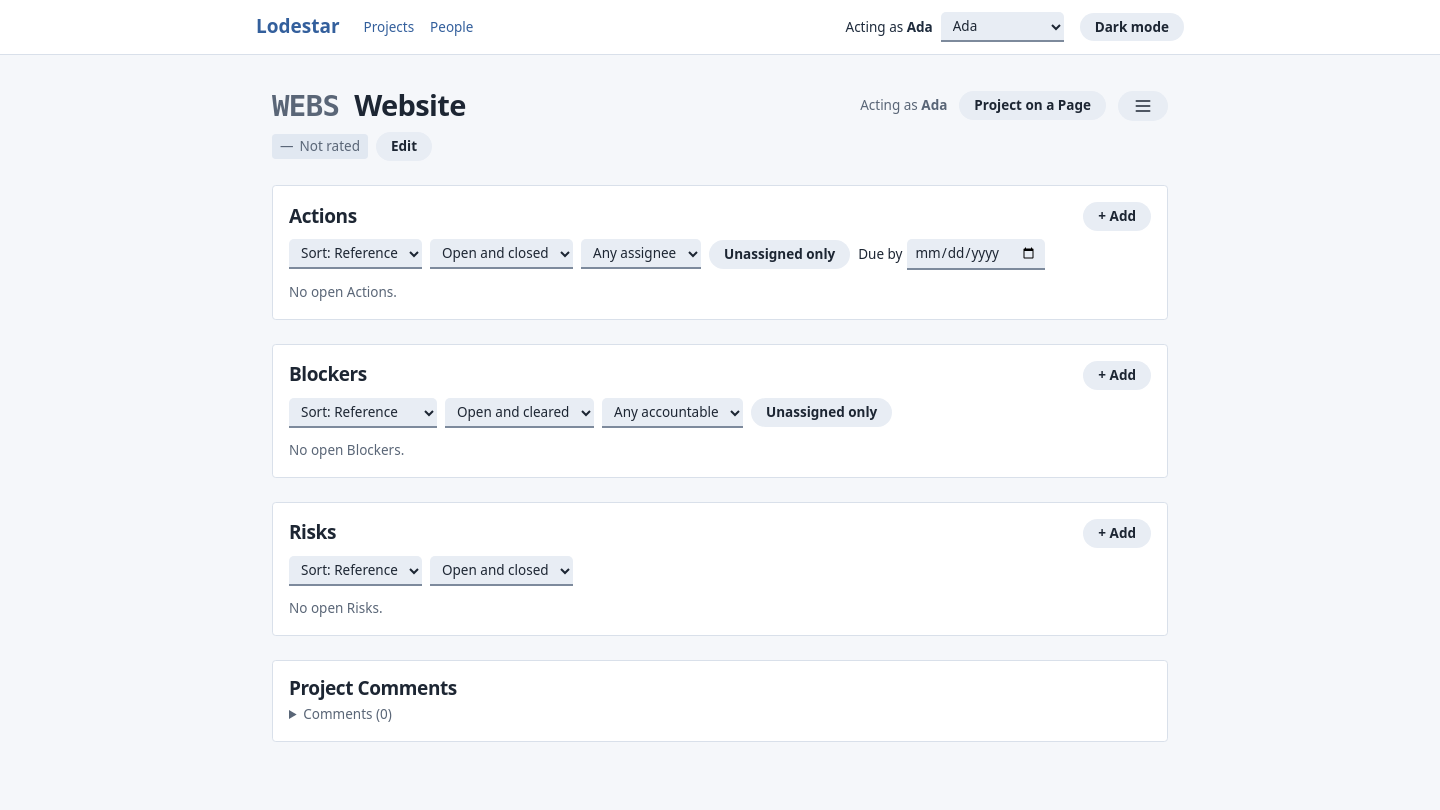
Scenario: Members in the meeting view › lists Members with a leader badge and adds one from People
The width and height of the screenshot is (1440, 810).
Click the button named "Project menu" at (1143, 106), box x1=1118 y1=91 x2=1168 y2=121
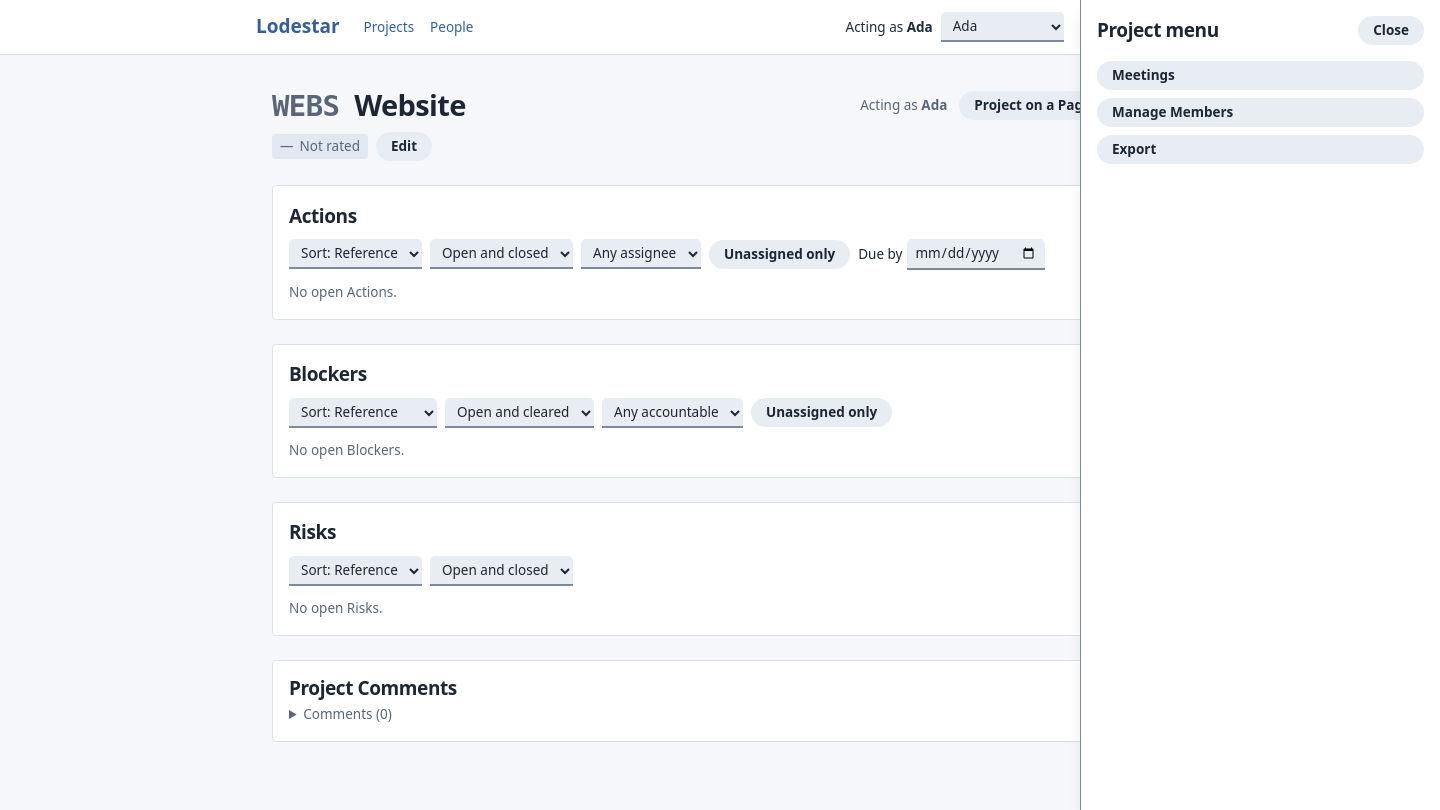
Click the button "Manage Members" at (1173, 112), box x1=1097 y1=98 x2=1424 y2=127
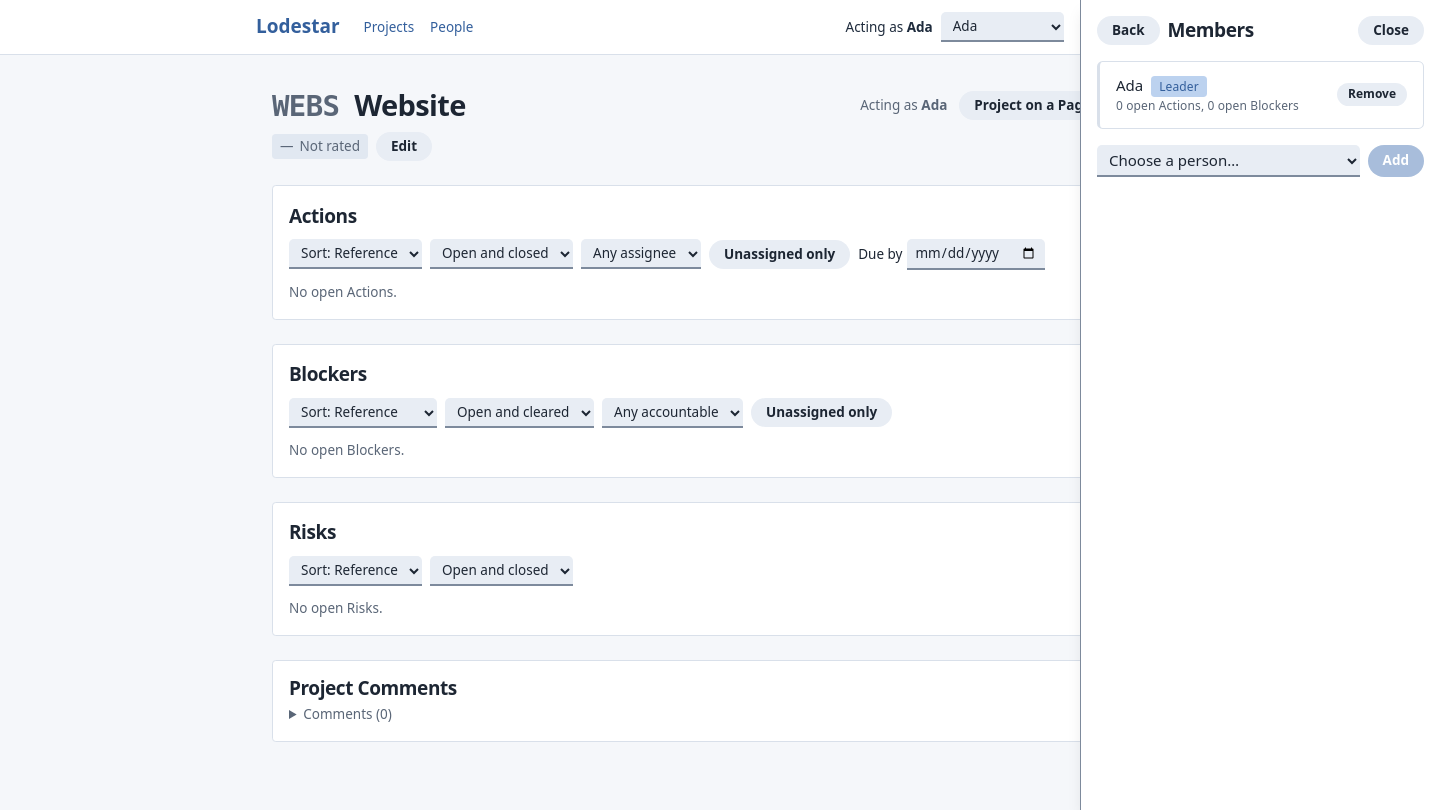
Expected: the list item shows "Leader", x1=1159 y1=78 x2=1199 y2=95
Select "Bob" in the dropdown named "Add member" below "0 open Actions, 0 open Blockers" at (1228, 161), box x1=1097 y1=145 x2=1360 y2=177
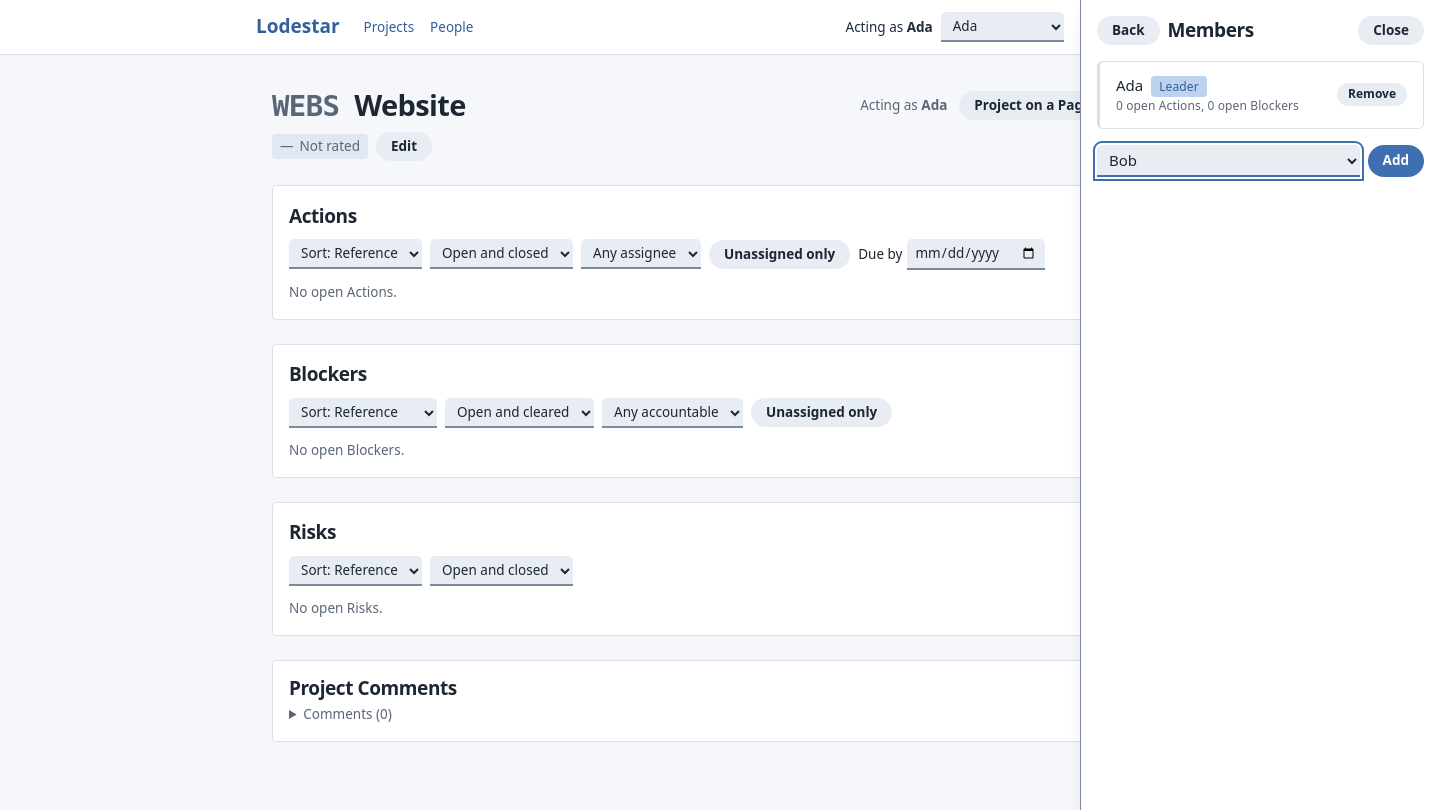
Click the button "Add" at (1396, 161), box x1=1368 y1=145 x2=1424 y2=177
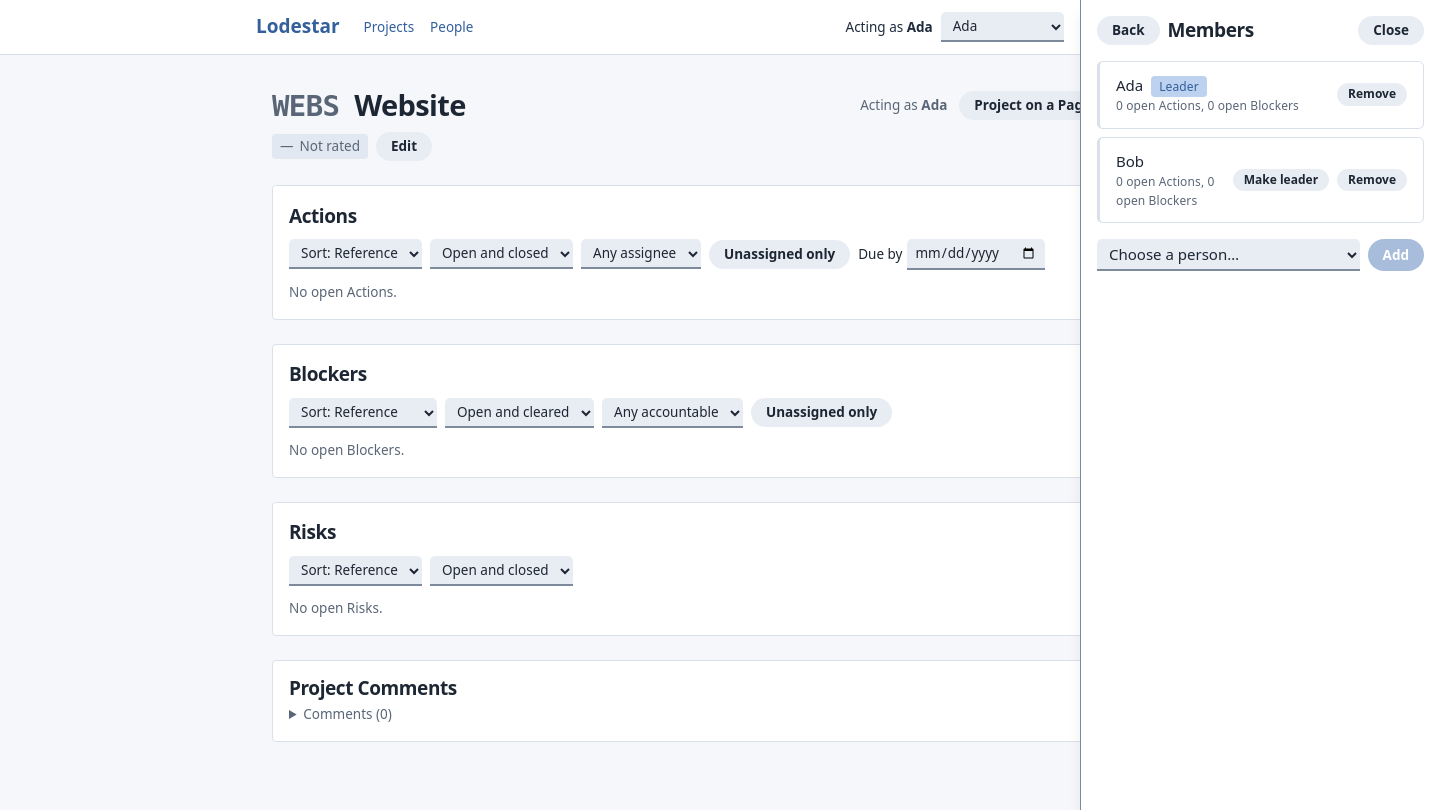
Expected: the number of list items is 2, x1=1097 y1=61 x2=1424 y2=129; x1=1097 y1=137 x2=1424 y2=223
